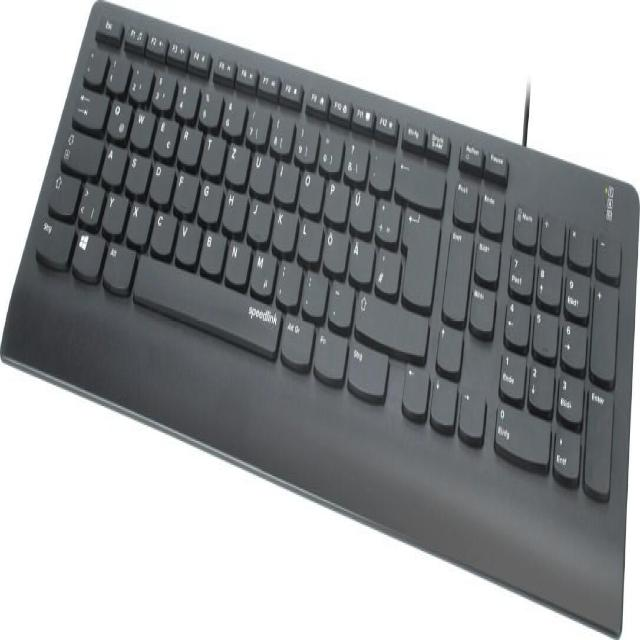0: (317, 121, 342, 167)
1: (103, 46, 128, 88)
2: (126, 56, 151, 96)
3: (150, 62, 174, 104)
4: (174, 73, 198, 113)
5: (196, 80, 221, 126)
6: (220, 88, 245, 131)
7: (243, 96, 269, 140)
8: (268, 105, 293, 150)
9: (292, 115, 317, 158)
a: (100, 140, 126, 182)
accent: (367, 139, 391, 187)
ae: (347, 234, 373, 280)
alt-left: (100, 237, 135, 287)
altgr-right: (278, 309, 314, 361)
b: (197, 225, 224, 271)
c: (148, 205, 174, 250)
caret: (85, 45, 105, 83)
comma: (273, 255, 300, 303)
d: (147, 158, 173, 201)
del: (392, 151, 444, 204)
e: (152, 110, 177, 153)
enter: (399, 204, 438, 306)
f: (171, 166, 197, 210)
g: (196, 177, 221, 218)
h: (219, 185, 246, 228)
hash: (373, 242, 398, 291)
i: (272, 154, 298, 199)
j: (245, 194, 271, 239)
k: (269, 204, 296, 248)
keyboard: (1, 2, 638, 637)
l: (295, 213, 321, 258)
less: (76, 177, 103, 221)
m: (248, 244, 274, 293)
minus: (325, 276, 352, 324)
n: (222, 234, 249, 282)
o: (296, 164, 322, 209)
oe: (321, 225, 347, 271)
p: (322, 174, 348, 220)
plus: (372, 193, 399, 237)
point: (299, 264, 326, 314)
q: (105, 93, 131, 136)
r: (175, 120, 200, 163)
s: (123, 148, 149, 191)
shift-left: (45, 162, 79, 212)
shift-lock: (59, 124, 102, 172)
shift-right: (353, 287, 428, 354)
space: (130, 247, 282, 361)
ss: (342, 131, 367, 177)
strg-left: (33, 212, 74, 261)
strg-right: (345, 338, 388, 393)
t: (199, 129, 224, 172)
tab: (71, 85, 106, 125)
u: (248, 145, 273, 191)
ue: (347, 183, 373, 229)
v: (173, 215, 199, 261)
w: (128, 102, 153, 145)
x: (124, 196, 150, 240)
y: (100, 186, 126, 231)
z: (223, 137, 248, 181)
